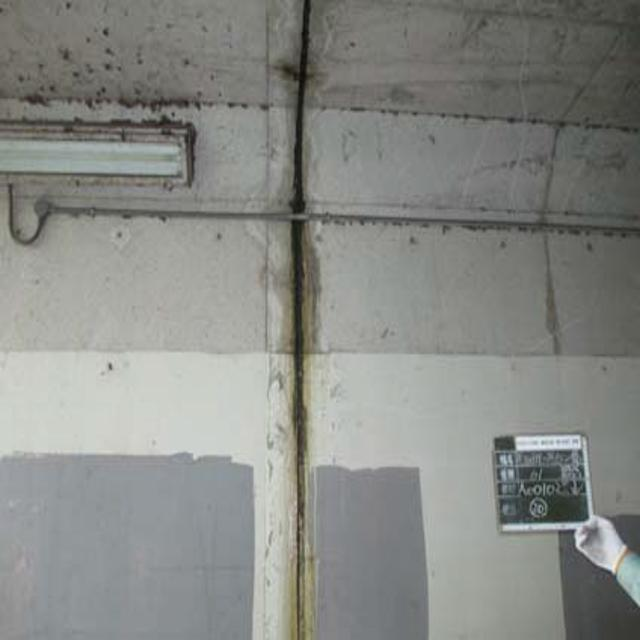leakage: (262, 73, 327, 640)
